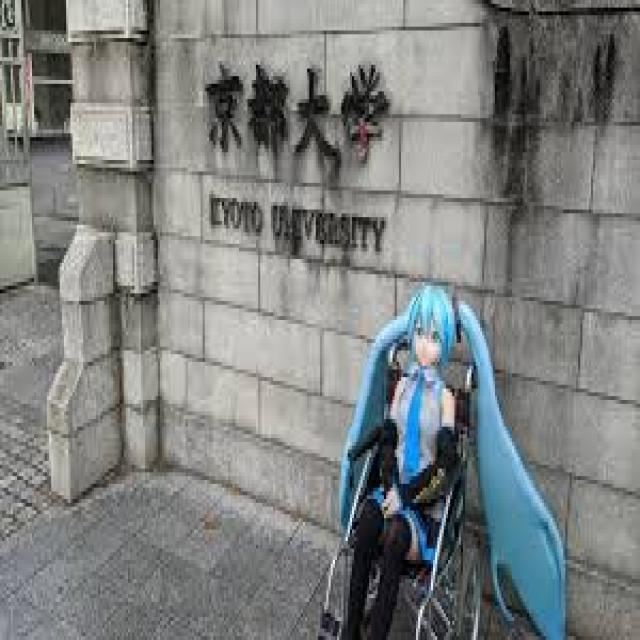wheelchairs: (331, 339, 486, 636)
